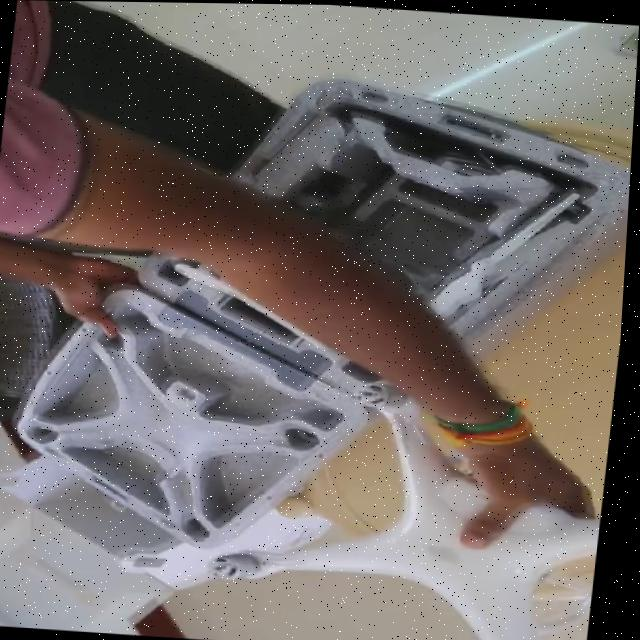drones: (131, 342, 622, 640)
